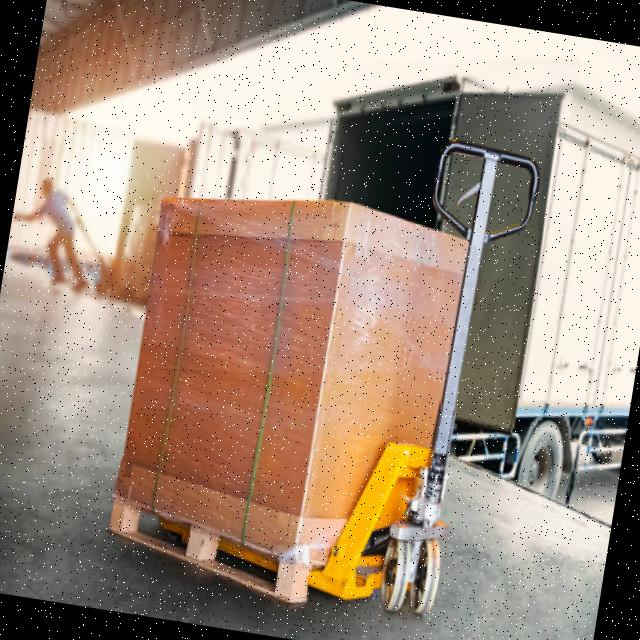Wooden-Pallets: (102, 484, 314, 611)
